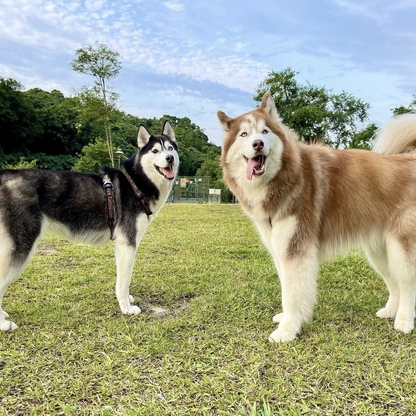husky: (215, 90, 416, 346), (1, 117, 184, 336)
